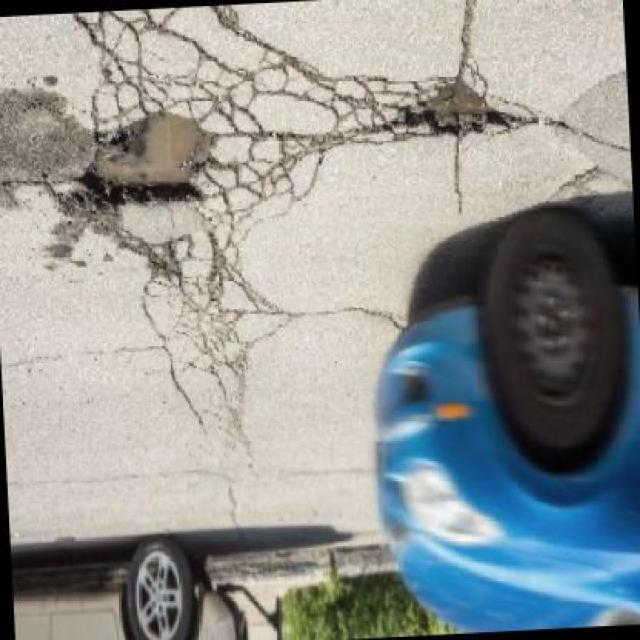pothole: (80, 110, 222, 232), (394, 73, 504, 145)
